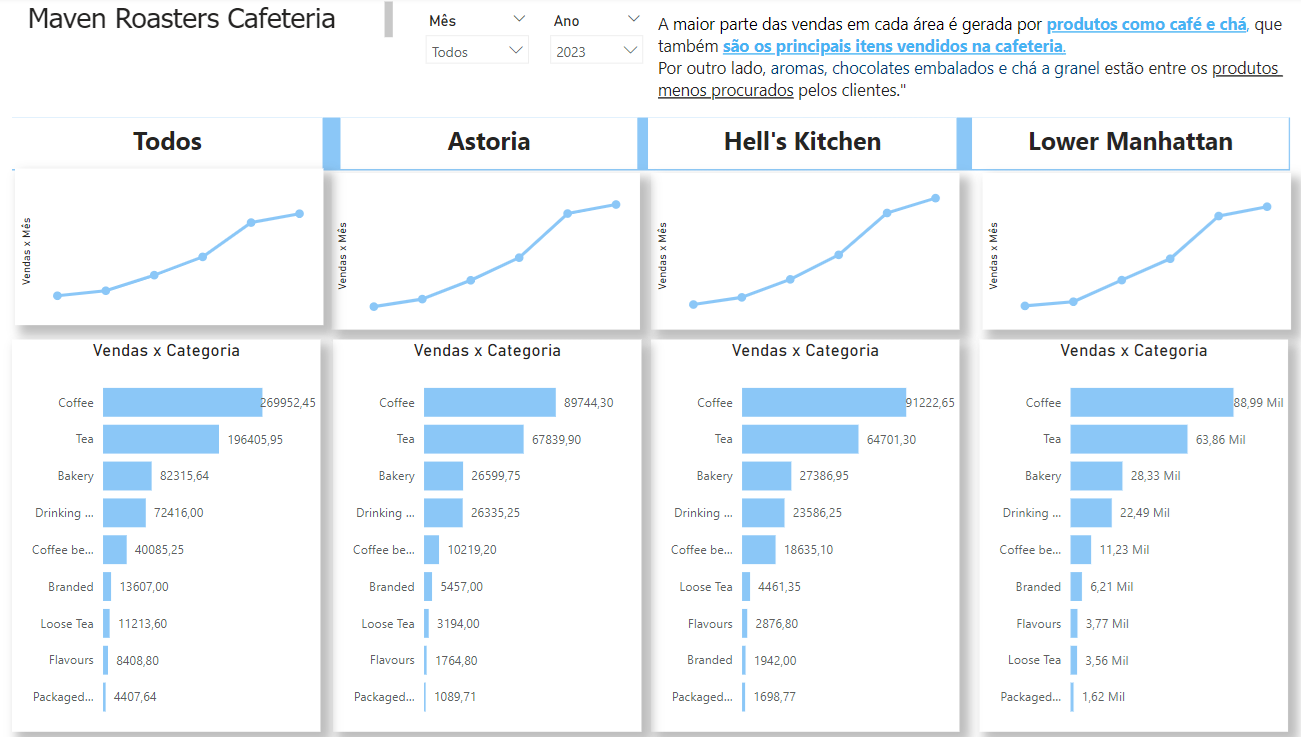

The dashboard page shown, as its layout file describes it:
{"tool":"powerbi","page":{"name":"Produtos","canvas":[1280,720],"ordinal":1},"visuals":[{"type":"textbox","box":[949.7,118.3,307.7,50.2],"z":0,"group":"g1"},{"type":"slicer","fields":{"Values":["Calendário.NomeMes"]},"box":[409.7,9.7,119.8,66.4],"z":0},{"type":"textbox","box":[17.8,117.9,301.2,50.2],"z":1000,"group":"g1"},{"type":"slicer","fields":{"Values":["Calendário.Ano"]},"box":[529.5,9.7,110.1,66.4],"z":1000},{"type":"textbox","box":[635.5,118.3,299.6,50.2],"z":2000,"group":"g1"},{"type":"textbox","box":[336,118.3,288.2,50.2],"z":3000,"group":"g1"},{"type":"group","id":"g1","title":"Grupo 1","box":[17.8,117.9,1239.5,50.6],"z":6000},{"type":"lineChart","fields":{"Y":["Transactions.Vendas Mês"],"Category":["Calendário.NomeMes"]},"box":[959.7,171.1,299.6,152.2],"z":7000},{"type":"lineChart","fields":{"Y":["Transactions.Vendas Mês"],"Category":["Calendário.NomeMes"]},"box":[637.4,171.1,299.6,152.2],"z":8000},{"type":"lineChart","fields":{"Category":["Calendário.NomeMes"],"Y":["Transactions.Vendas Mês"]},"box":[328.2,171.1,299.6,152.2],"z":9000},{"type":"lineChart","fields":{"Category":["Calendário.NomeMes"],"Y":["Transactions.Vendas Mês"]},"box":[20.5,167.9,299.6,152.2],"z":10000},{"type":"textbox","box":[27.5,0,364.3,51.8],"z":11000},{"type":"textbox","box":[639.6,9.7,626.6,95.5],"z":12000},{"type":"clusteredBarChart","title":"Vendas x Categoria","fields":{"Category":["Transactions.product_category"],"Y":["Transactions.Vendas Mês"]},"box":[957,333.6,299.6,380.5],"z":12001},{"type":"clusteredBarChart","title":"Vendas x Categoria","fields":{"Category":["Transactions.product_category"],"Y":["Transactions.Vendas Mês"]},"box":[638,333.6,299.6,380.5],"z":12002},{"type":"clusteredBarChart","title":"Vendas x Categoria","fields":{"Category":["Transactions.product_category"],"Y":["Transactions.Vendas Mês"]},"box":[328.7,333.6,299.6,380.5],"z":12003},{"type":"clusteredBarChart","title":"Vendas x Categoria","fields":{"Category":["Transactions.product_category"],"Y":["Transactions.Vendas Mês"]},"box":[17.8,333.6,299.6,380.5],"z":12004}]}

Visuals, with their boxes in screenshot pixels (x1, y1, x2, y2), scaled from the page's 1280x720 canvas onto the 1308x740 screenshot:
textbox: <region>970, 122, 1285, 173</region>
slicer - Calendário.NomeMes: <region>419, 10, 541, 78</region>
textbox: <region>18, 121, 326, 173</region>
slicer - Calendário.Ano: <region>541, 10, 654, 78</region>
textbox: <region>649, 122, 956, 173</region>
textbox: <region>343, 122, 638, 173</region>
"Grupo 1" group: <region>18, 121, 1285, 173</region>
lineChart - Transactions.Vendas Mês x Calendário.NomeMes: <region>981, 176, 1287, 332</region>
lineChart - Transactions.Vendas Mês x Calendário.NomeMes: <region>651, 176, 957, 332</region>
lineChart - Calendário.NomeMes x Transactions.Vendas Mês: <region>335, 176, 642, 332</region>
lineChart - Calendário.NomeMes x Transactions.Vendas Mês: <region>21, 173, 327, 329</region>
textbox: <region>28, 0, 400, 53</region>
textbox: <region>654, 10, 1294, 108</region>
"Vendas x Categoria" clusteredBarChart: <region>978, 343, 1284, 734</region>
"Vendas x Categoria" clusteredBarChart: <region>652, 343, 958, 734</region>
"Vendas x Categoria" clusteredBarChart: <region>336, 343, 642, 734</region>
"Vendas x Categoria" clusteredBarChart: <region>18, 343, 324, 734</region>
